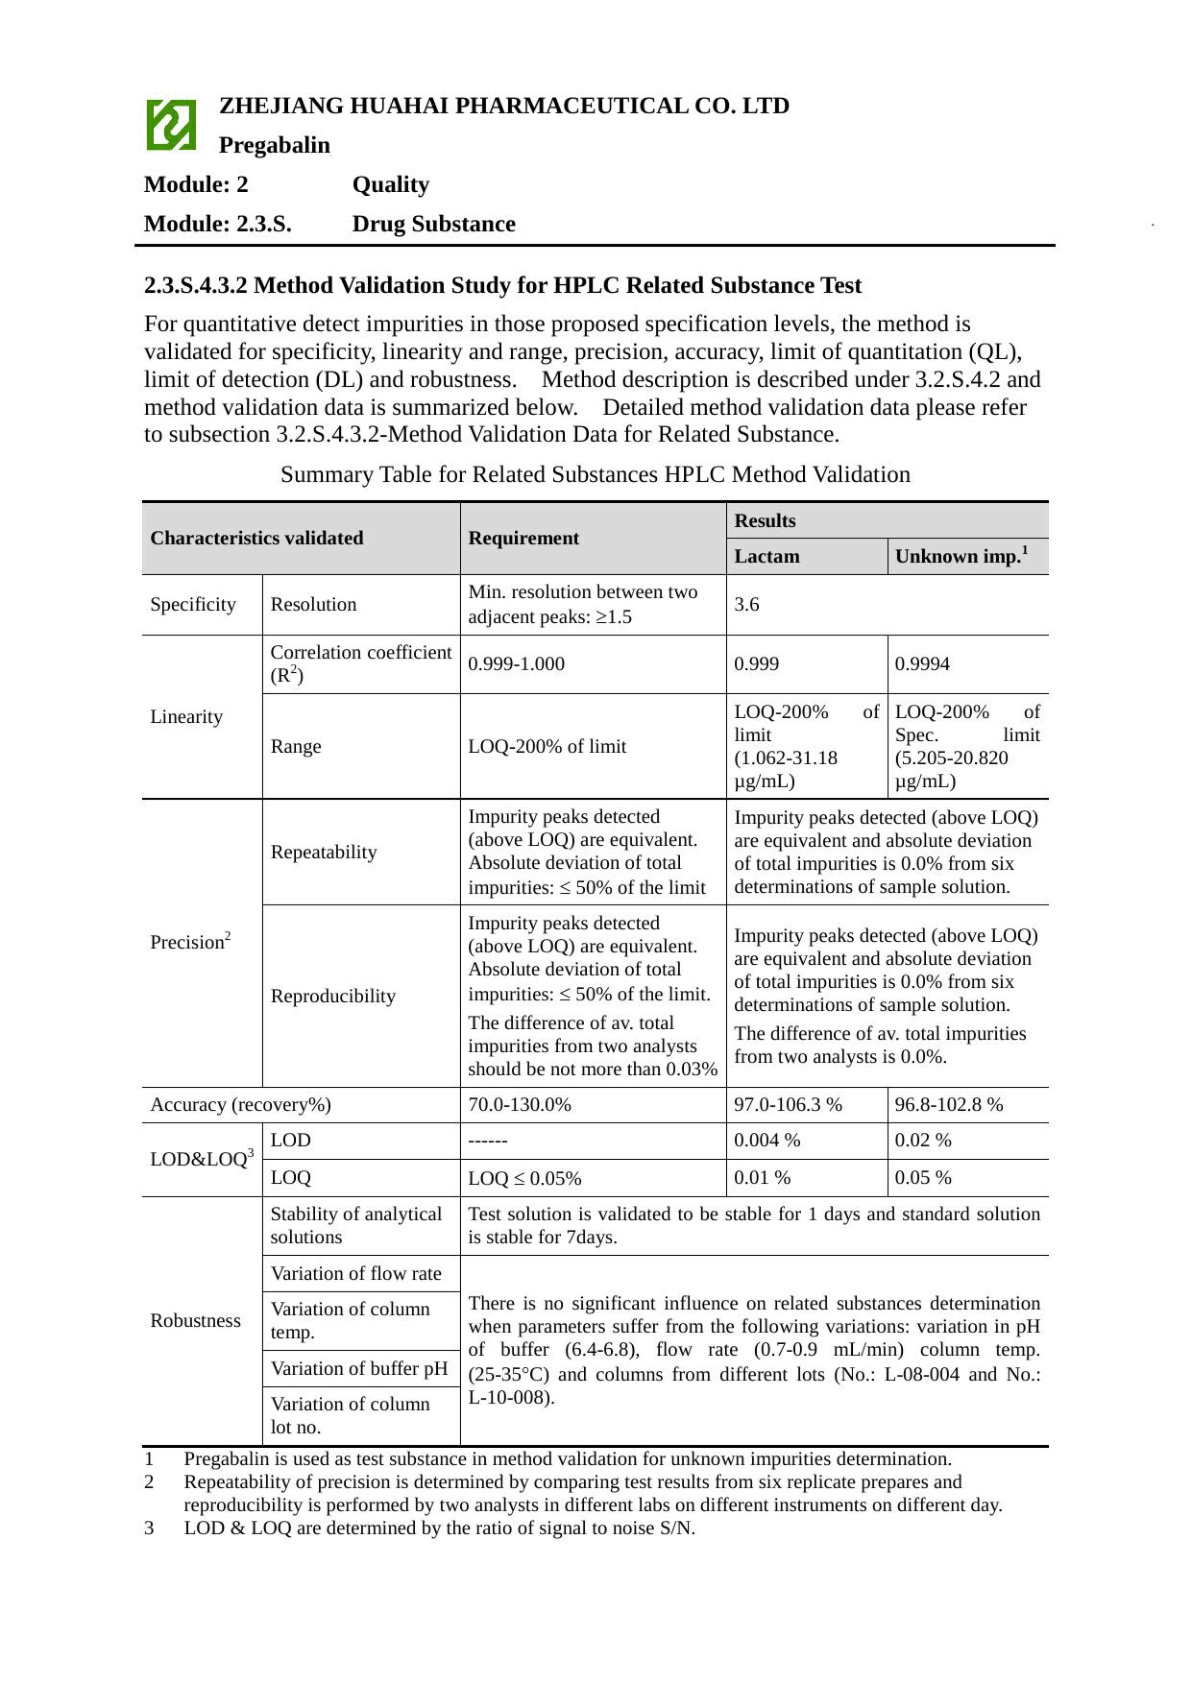partial_lined_merged_cells: (141, 498, 1051, 1451)
